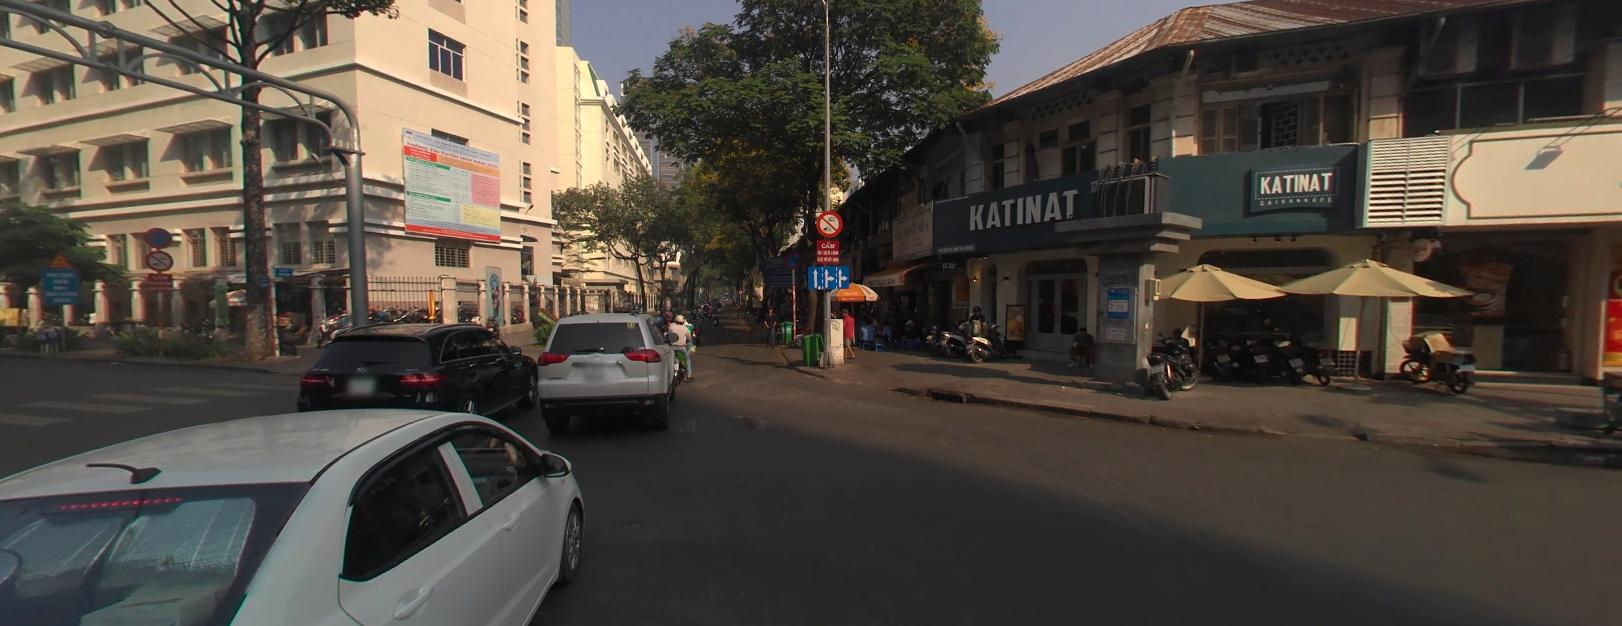Cam con lai: (816, 209, 841, 234), (146, 250, 172, 269)
Cam dung va do: (145, 225, 171, 246), (785, 249, 801, 267)
Nguy hiem: (49, 251, 72, 267)
